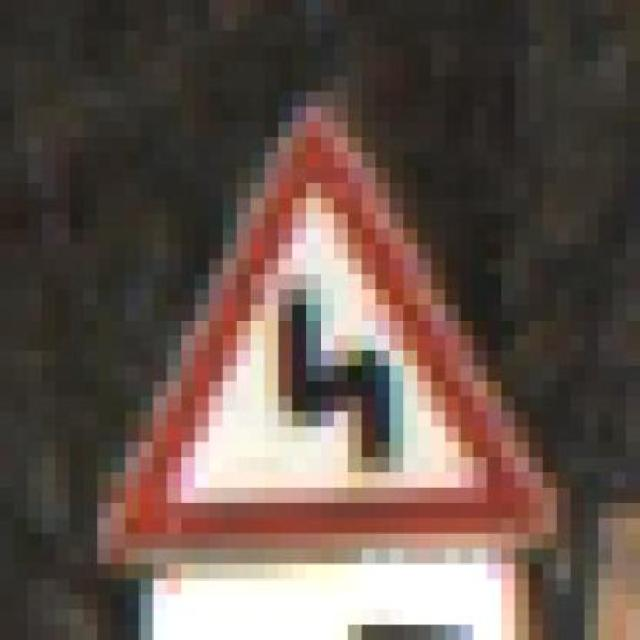Left Zig Zag Traffic: (69, 91, 571, 564)
